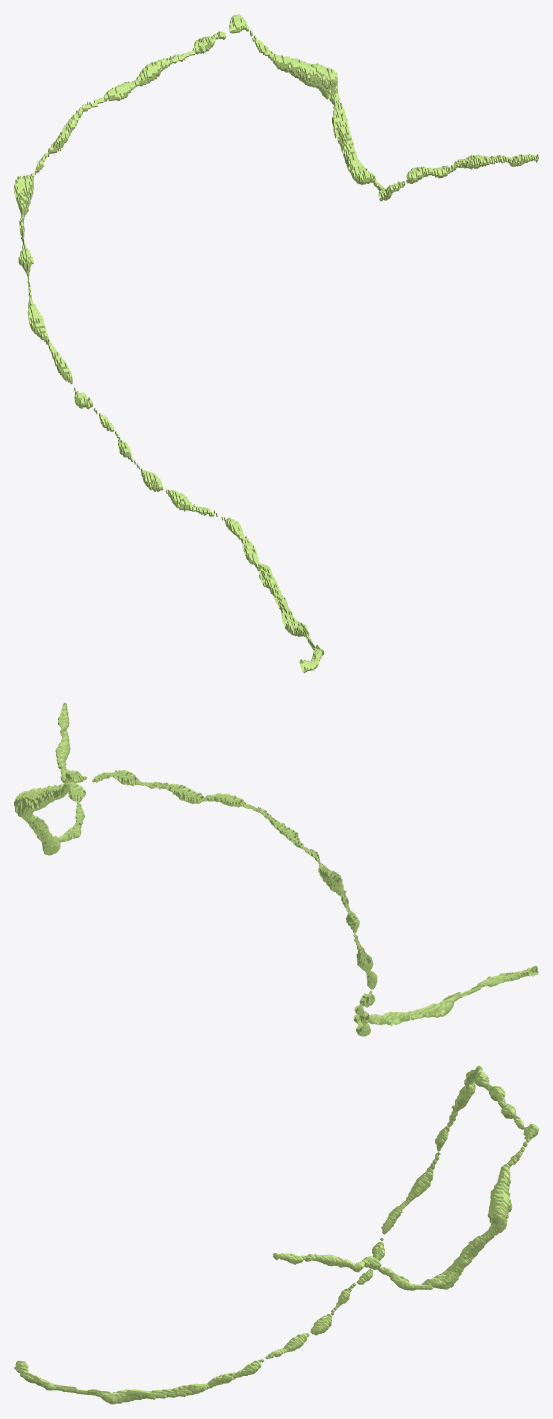
The model's file is SVV_SIADL.gltf.
3 renders of one model, top to bottom at view 1: azimuth 30°, elevation 25°; view 2: azimuth 150°, elevation 25°; view 3: azimuth 270°, elevation 25°, orthographic. The views are drawn at different scales.
Parts seen in each view (by area): view 1: SIADL; view 2: SIADL; view 3: SIADL.
Part boxes in pixels (x1,y1,x2,y2): SIADL: [14, 14, 538, 673]; SIADL: [14, 702, 538, 1036]; SIADL: [14, 1065, 538, 1404].
Bounding box in the file's own units: 136552 × 123374 × 165495.
